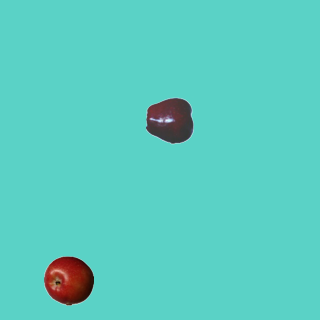Apple Braeburn: (43, 255, 93, 305)
Apple Red Delicious: (145, 95, 195, 145)
